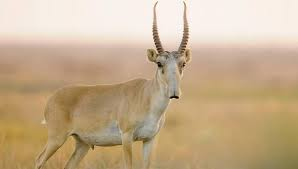saiga: (34, 1, 193, 169)
